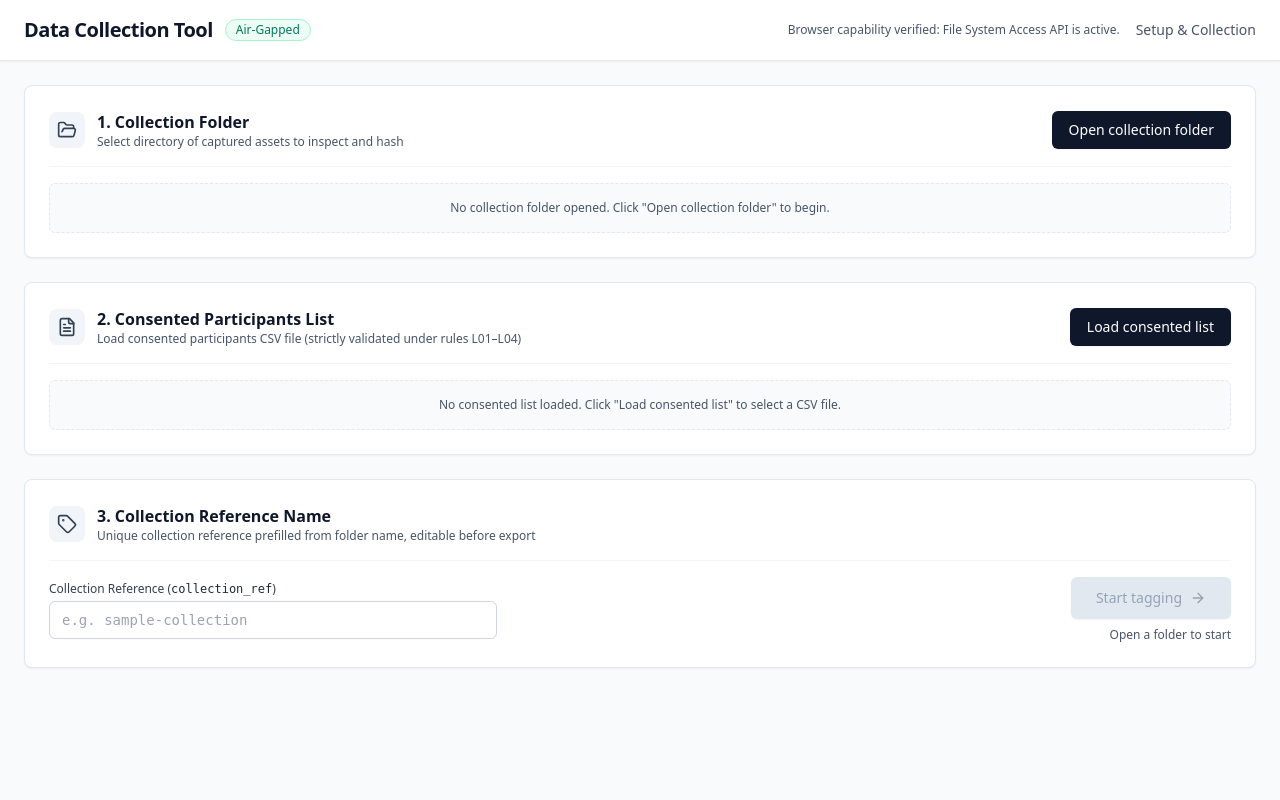
Test: Adversarial Stress Harness: Milestone 4 Start Screen & State Pipeline › Challenge 2: Empty folder ingestion (0 assets, division by zero protection) › 2.2: Folder containing only ignored hidden files (.git, .hidden, .dct-progress.json) results in 0 assets
This screenshot has width=1280, height=800.
Step 1. Click the button with test id "open-folder-button" → (1141, 130), box [1052,111,1231,149]
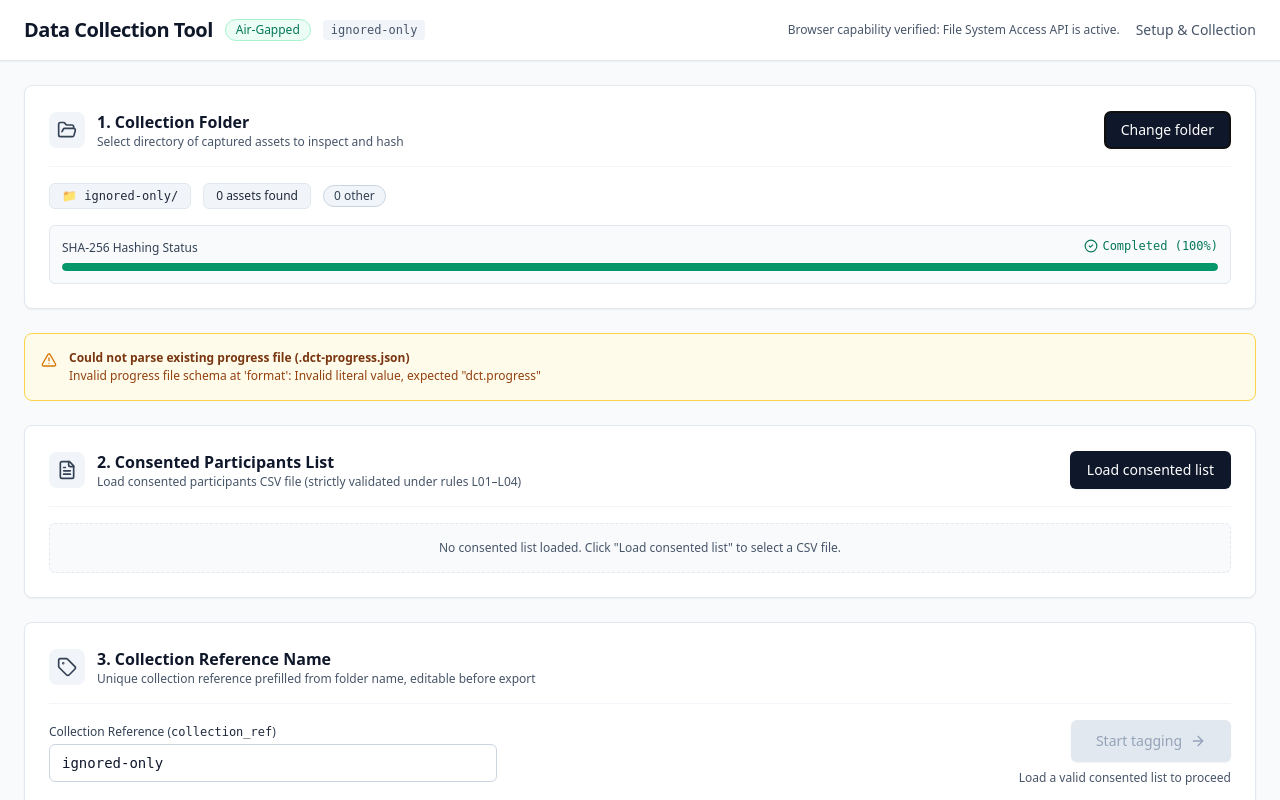
Expected: the button with test id "proceed-button" is disabled, [1071,720,1231,762]
Result: the text with test id "folder-name" shows "ignored-only" at [84,189,171,203]
Result: the text with test id "asset-count-badge" reads "0 assets found" at [203,183,311,209]
